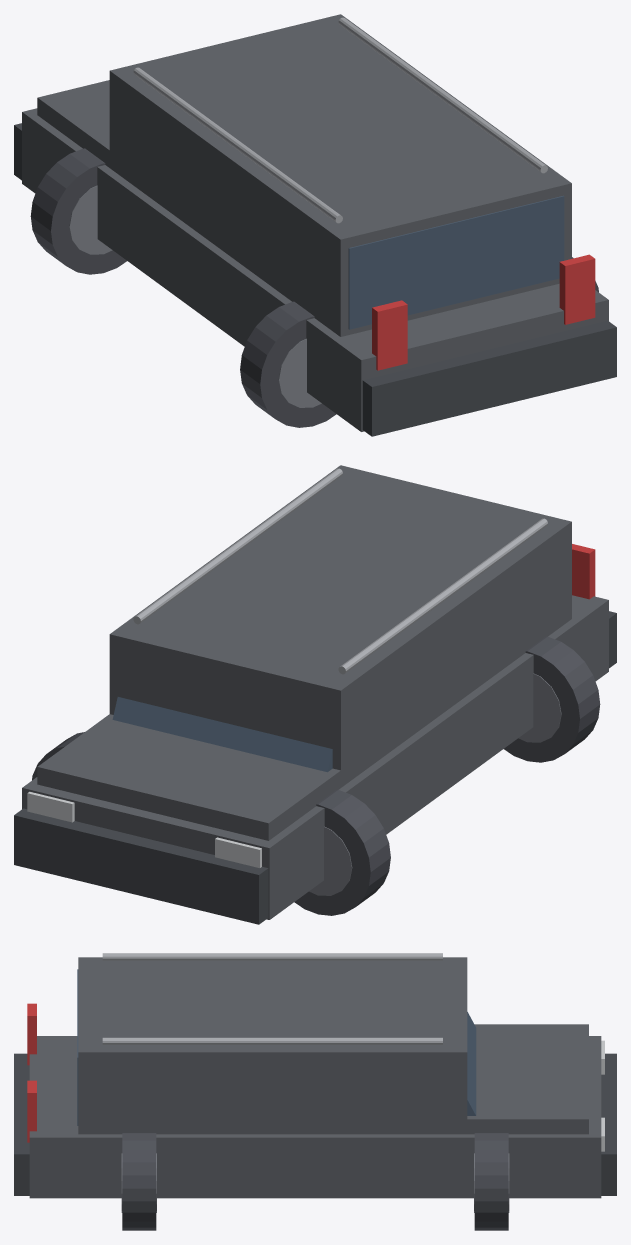
File: vehicle_suv.glb
3 renders of one model, top to bottom at view 1: azimuth 30°, elevation 25°; view 2: azimuth 150°, elevation 25°; view 3: azimuth 270°, elevation 25°, orthographic. The views are drawn at different scales.
Parts seen in each view (by area): view 1: world; view 2: world; view 3: world.
Boxes of the visible parts, x1,y1,x2,y2 form: world: (14,14,616,436); world: (14,465,616,924); world: (14,953,616,1230).
Size of the model in its own units: 2.72 by 1.65 by 4.96.
